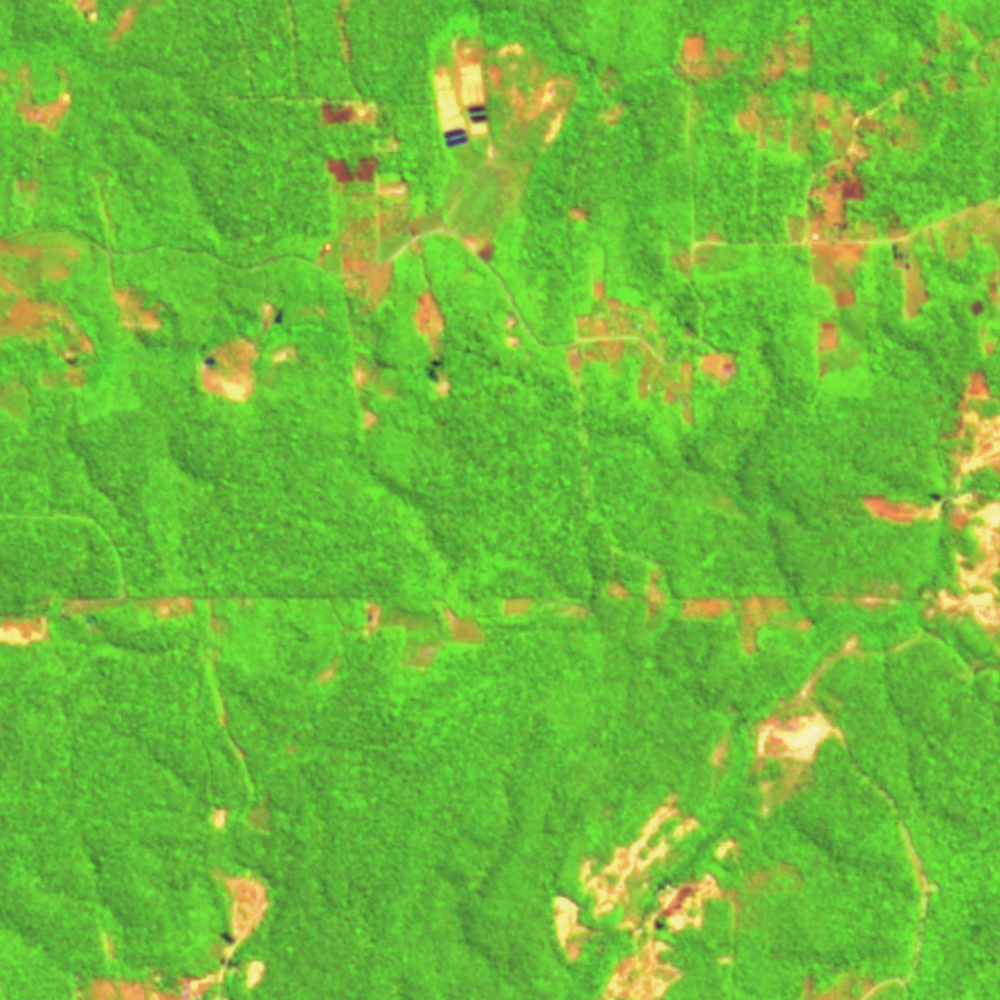legal: (319, 94, 455, 438), (675, 18, 1000, 157), (550, 793, 749, 1000), (864, 365, 1000, 636), (783, 154, 944, 376), (426, 32, 578, 262), (506, 282, 739, 420), (79, 869, 272, 1000), (706, 637, 867, 781), (356, 592, 593, 674), (609, 570, 815, 656), (1, 226, 95, 398), (1, 592, 203, 654), (194, 300, 305, 407), (943, 193, 1000, 371), (205, 713, 284, 839), (893, 812, 933, 982), (7, 55, 75, 134), (70, 1, 168, 47), (107, 282, 179, 340), (797, 964, 878, 1000), (674, 227, 728, 278), (600, 63, 626, 131), (314, 650, 347, 696), (561, 201, 588, 219)
